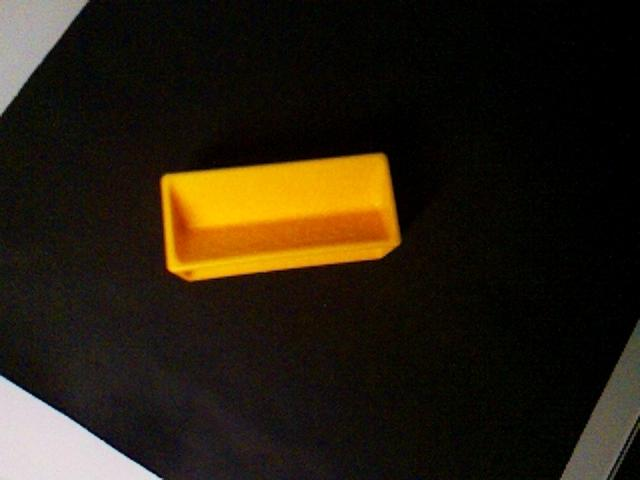yellow: (159, 150, 403, 283)
